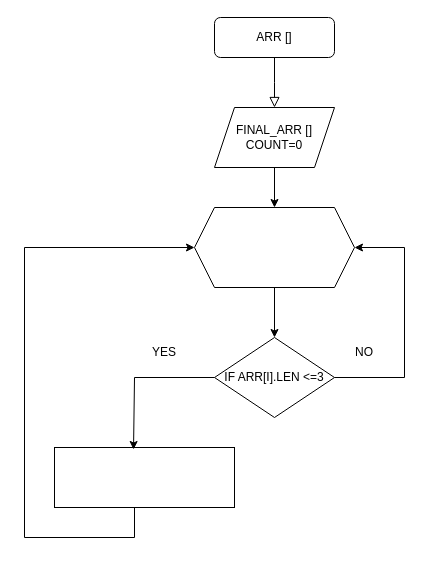
Some shapes in this 430 by 563 pixel diagram are drawn without their labels. The centre of each missing label's shape, as x and y in pixels:
"FINAL_ARR[COUNT] = ARR[I] COUNT++" belongs at point (144, 477).
"I=0; I<ARR.LEN; I++" belongs at point (274, 247).
